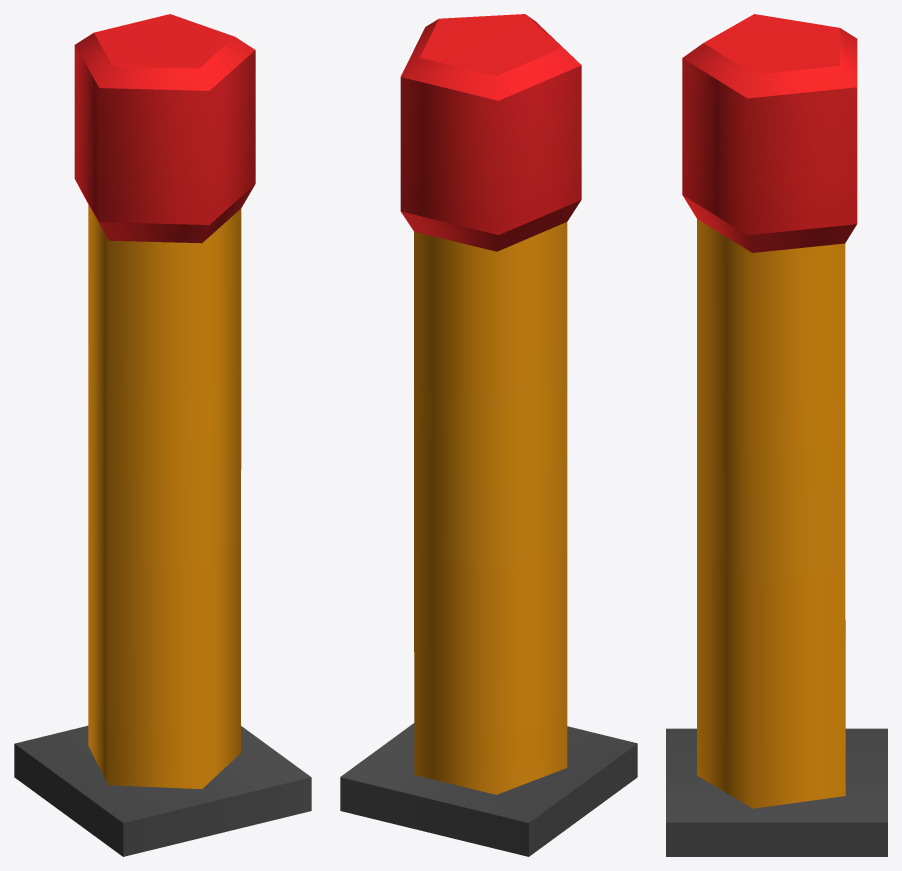
Rendered from Bollards_4_C.fbx.
The picture shows the model from 3 angles, left to right: view 1: azimuth 30°, elevation 25°; view 2: azimuth 150°, elevation 25°; view 3: azimuth 270°, elevation 25°; orthographic projection.
Visible parts, largest first — view 1: Bollards_4_C; view 2: Bollards_4_C; view 3: Bollards_4_C.
Boxes of the visible parts, box(x1,y1,x2,y2) form: Bollards_4_C: box(14, 14, 311, 856); Bollards_4_C: box(340, 14, 637, 856); Bollards_4_C: box(666, 14, 887, 856).
Bounding box in the file's own units: 15.3 × 58.39 × 15.3.
